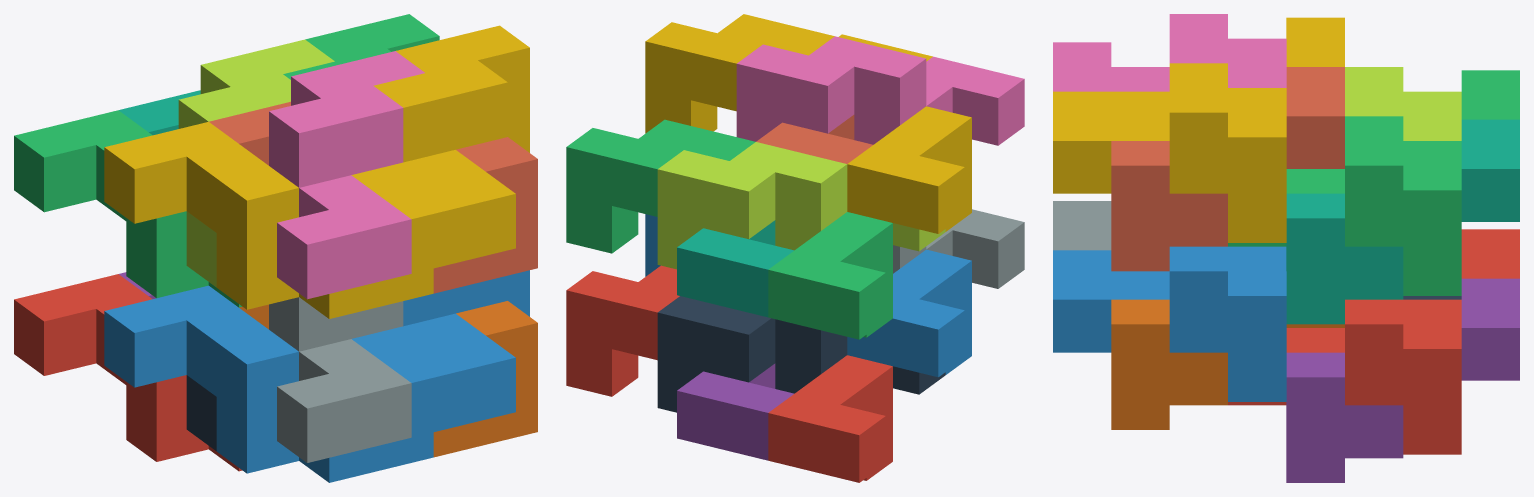
Rendered from tiling.obj.
3 renders of one model, left to right at view 1: azimuth 30°, elevation 25°; view 2: azimuth 150°, elevation 25°; view 3: azimuth 270°, elevation 25°, orthographic. The views are drawn at different scales.
Visible parts, largest first — view 1: copy_2_domain_4, copy_2_domain_8, copy_1_domain_2, copy_1_domain_4, copy_2_domain_2, copy_2_domain_6, copy_1_domain_3, copy_1_domain_1, copy_2_domain_3, copy_1_domain_8, copy_1_domain_6, copy_2_domain_7 (+2 smaller); view 2: copy_2_domain_4, copy_2_domain_3, copy_2_domain_1, copy_2_domain_7, copy_1_domain_1, copy_1_domain_3, copy_1_domain_4, copy_2_domain_8, copy_2_domain_5, copy_1_domain_2, copy_1_domain_5, copy_1_domain_7 (+3 smaller); view 3: copy_2_domain_8, copy_2_domain_6, copy_2_domain_7, copy_2_domain_5, copy_1_domain_7, copy_1_domain_5, copy_1_domain_8, copy_1_domain_6, copy_2_domain_4, copy_2_domain_3, copy_1_domain_4, copy_1_domain_1 (+2 smaller).
Part boxes in pixels (x1,y1,x2,y2): copy_2_domain_4: [269, 51, 424, 299]; copy_2_domain_8: [373, 25, 529, 273]; copy_1_domain_2: [104, 285, 433, 482]; copy_1_domain_4: [104, 121, 433, 318]; copy_2_domain_2: [269, 297, 411, 462]; copy_2_domain_6: [382, 270, 529, 437]; copy_1_domain_3: [14, 110, 241, 307]; copy_1_domain_1: [14, 274, 242, 471]; copy_2_domain_3: [178, 39, 334, 287]; copy_1_domain_8: [209, 101, 537, 293]; copy_1_domain_6: [239, 301, 537, 457]; copy_2_domain_7: [283, 14, 439, 79]; copy_2_domain_4: [736, 36, 1024, 145]; copy_2_domain_3: [657, 142, 945, 269]; copy_2_domain_1: [657, 296, 945, 412]; copy_2_domain_7: [566, 119, 755, 253]; copy_1_domain_1: [768, 355, 892, 482]; copy_1_domain_3: [768, 212, 892, 339]; copy_1_domain_4: [847, 106, 971, 233]; copy_2_domain_8: [645, 14, 932, 133]; copy_2_domain_5: [566, 265, 679, 396]; copy_1_domain_2: [847, 249, 971, 377]; copy_1_domain_5: [677, 363, 793, 460]; copy_1_domain_7: [677, 220, 793, 317]; copy_2_domain_8: [1053, 63, 1286, 242]; copy_2_domain_6: [1053, 246, 1286, 401]; copy_2_domain_7: [1228, 116, 1461, 295]; copy_2_domain_5: [1228, 299, 1461, 454]; copy_1_domain_7: [1286, 119, 1519, 324]; copy_1_domain_5: [1286, 278, 1519, 482]; copy_1_domain_8: [1111, 67, 1344, 271]; copy_1_domain_6: [1111, 299, 1344, 429]; copy_2_domain_4: [1053, 14, 1286, 91]; copy_2_domain_3: [1345, 67, 1461, 140]; copy_1_domain_4: [1111, 17, 1344, 116]; copy_1_domain_1: [1461, 229, 1519, 278].
Size of the model in its own units: 7 by 7 by 8.
